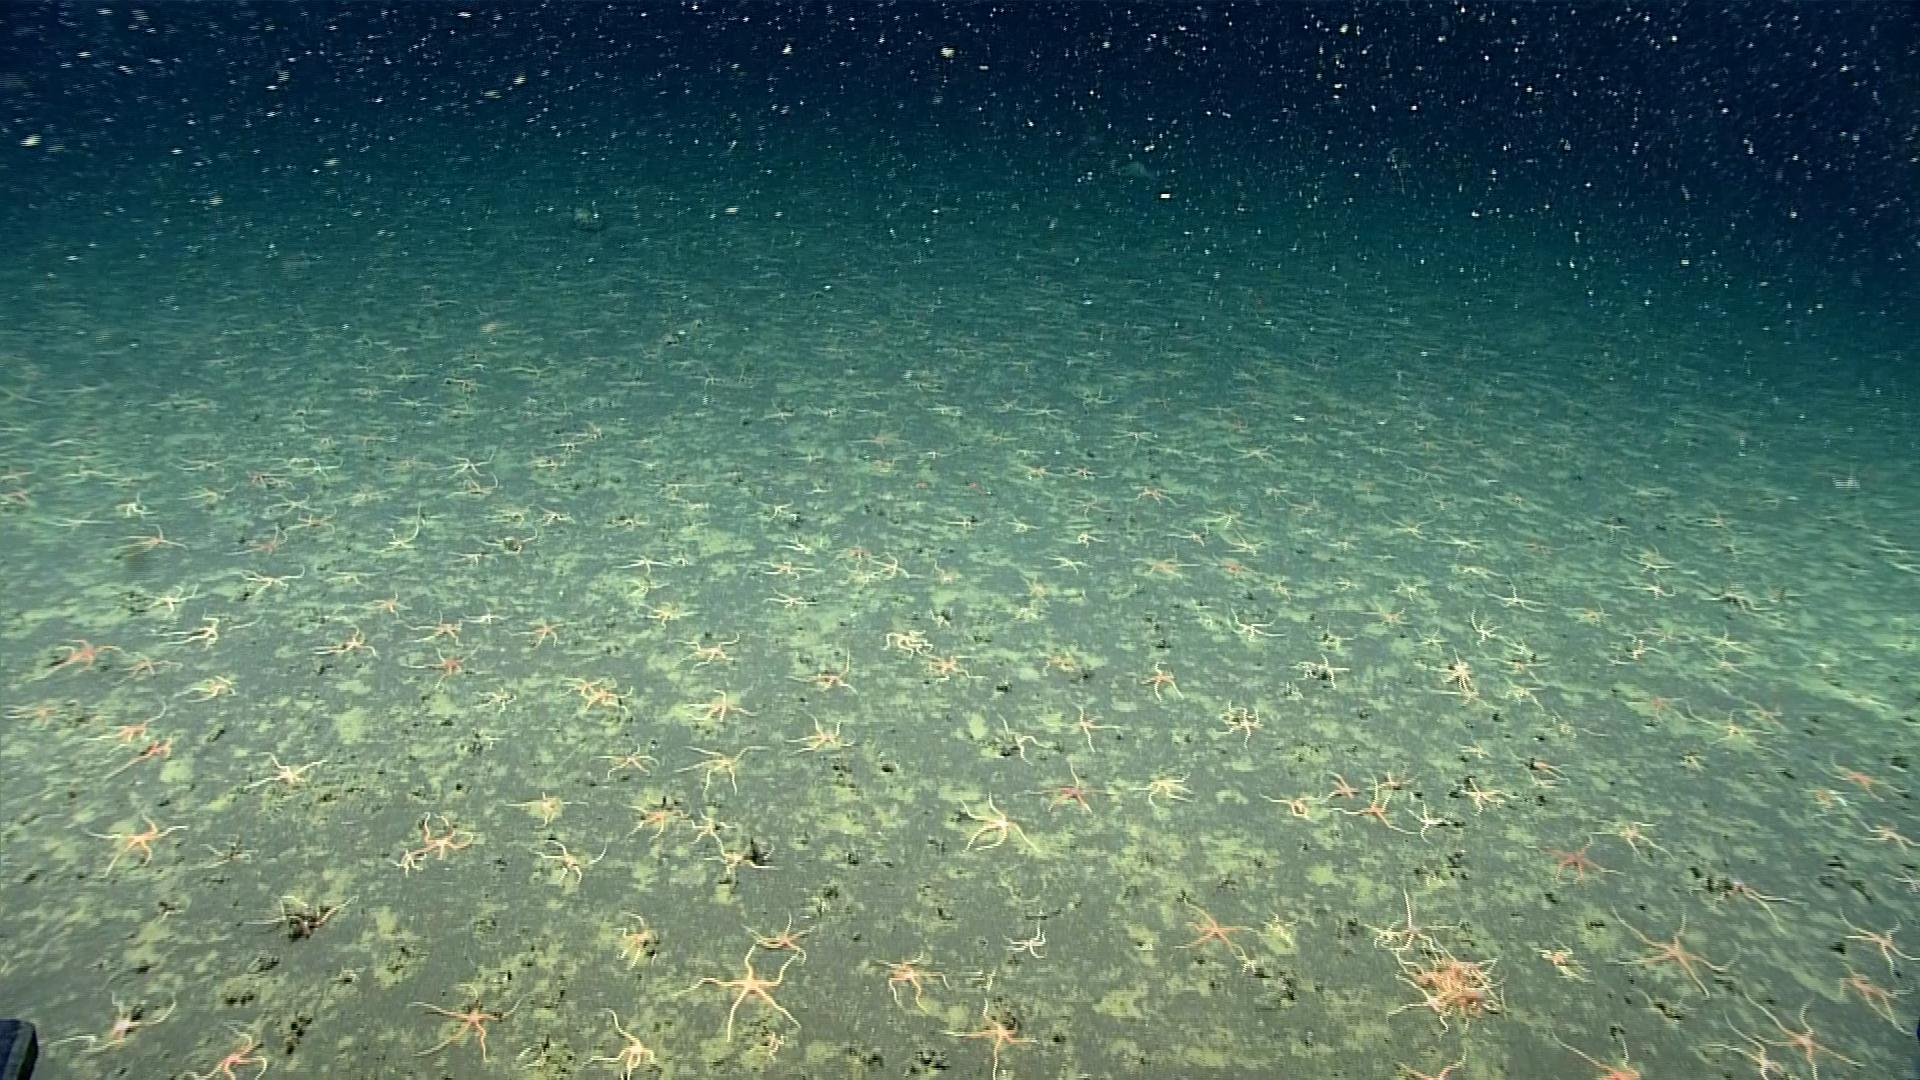brittle_sea_star: (673, 945, 814, 1042), (1614, 909, 1743, 1000), (1747, 986, 1869, 1071), (410, 985, 534, 1064), (44, 989, 177, 1060), (80, 812, 191, 877), (1692, 876, 1805, 935), (1168, 895, 1259, 961), (1391, 886, 1468, 960), (953, 793, 1044, 855), (1027, 762, 1122, 822), (1338, 779, 1424, 844), (247, 893, 357, 942), (1539, 833, 1631, 889), (876, 952, 959, 1011), (676, 741, 771, 793), (194, 1023, 281, 1079), (1559, 1029, 1652, 1079), (1712, 1015, 1789, 1075), (1685, 703, 1774, 754), (1841, 968, 1911, 1033), (243, 746, 328, 798), (960, 1004, 1034, 1063), (1386, 972, 1455, 1035), (1844, 913, 1912, 975), (38, 634, 124, 683), (585, 1018, 665, 1071), (1821, 758, 1907, 804), (1590, 814, 1671, 861), (740, 903, 814, 953), (541, 841, 616, 890), (414, 645, 489, 692), (1060, 709, 1129, 760), (686, 686, 761, 731), (673, 628, 745, 674), (790, 646, 857, 695), (997, 717, 1059, 770), (88, 705, 170, 745), (629, 800, 699, 847), (785, 715, 858, 757), (225, 524, 303, 563), (107, 738, 173, 785), (616, 913, 667, 971), (422, 815, 480, 862), (119, 522, 190, 560), (506, 789, 585, 823), (508, 617, 579, 654), (1218, 702, 1269, 753), (591, 742, 662, 778), (1226, 607, 1290, 646), (235, 566, 309, 599), (1133, 775, 1203, 810), (704, 840, 771, 876), (1004, 918, 1054, 965), (1540, 938, 1588, 988), (161, 615, 222, 651), (1367, 767, 1429, 803), (1261, 790, 1324, 824), (1461, 779, 1514, 820), (9, 702, 76, 733), (1704, 584, 1774, 615), (1361, 599, 1418, 636), (1138, 550, 1201, 583), (467, 530, 542, 558), (1138, 666, 1192, 704), (316, 629, 381, 661), (924, 655, 989, 687), (406, 616, 468, 649), (1407, 804, 1458, 844), (119, 653, 177, 687), (1433, 650, 1484, 690), (138, 583, 200, 615), (882, 629, 936, 665), (1858, 822, 1919, 853), (1491, 584, 1549, 617), (1298, 657, 1353, 691), (1466, 613, 1518, 650), (1627, 549, 1684, 582), (183, 675, 244, 705), (378, 520, 425, 559), (688, 806, 732, 847), (578, 687, 636, 717), (1433, 684, 1494, 713), (1319, 771, 1366, 808), (291, 508, 343, 539), (866, 551, 915, 584), (363, 593, 421, 621), (440, 454, 498, 481), (754, 559, 825, 582), (1497, 679, 1547, 711), (1127, 483, 1183, 510), (617, 554, 678, 579), (265, 493, 319, 521), (644, 603, 700, 629), (1495, 657, 1551, 683), (1621, 582, 1685, 604), (1205, 508, 1259, 534), (1224, 533, 1275, 560), (1300, 607, 1342, 640), (761, 587, 818, 611), (1036, 650, 1080, 680), (1361, 919, 1404, 949), (1412, 625, 1453, 657), (1172, 524, 1217, 551), (1712, 655, 1756, 683), (1393, 520, 1437, 547), (393, 849, 434, 877), (1528, 754, 1571, 779), (535, 506, 579, 530), (1444, 534, 1487, 558), (1456, 564, 1505, 585), (1572, 605, 1613, 630), (1713, 632, 1749, 657), (1629, 642, 1668, 665), (1047, 555, 1088, 576), (1394, 580, 1429, 604), (1671, 752, 1706, 774), (1333, 572, 1362, 597), (1002, 517, 1040, 535), (1068, 529, 1105, 546), (1688, 632, 1712, 655), (1507, 640, 1540, 655)
